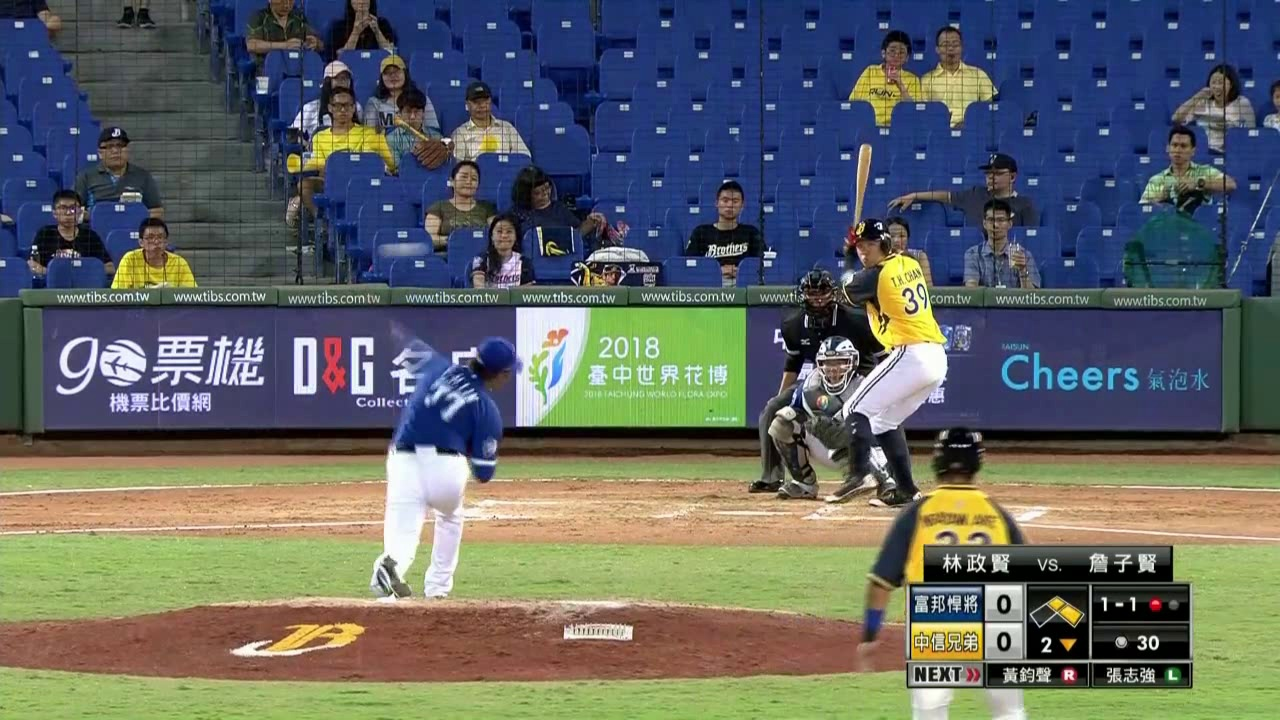ball: (393, 241, 411, 258)
base: (1028, 588, 1086, 628)
bat: (849, 139, 875, 235)
out: (1142, 585, 1189, 618)
score1: (986, 586, 1020, 621)
score2: (986, 627, 1020, 658)
session: (1027, 628, 1087, 661)
strikeball: (1092, 587, 1142, 621)
total: (1093, 628, 1186, 655)
